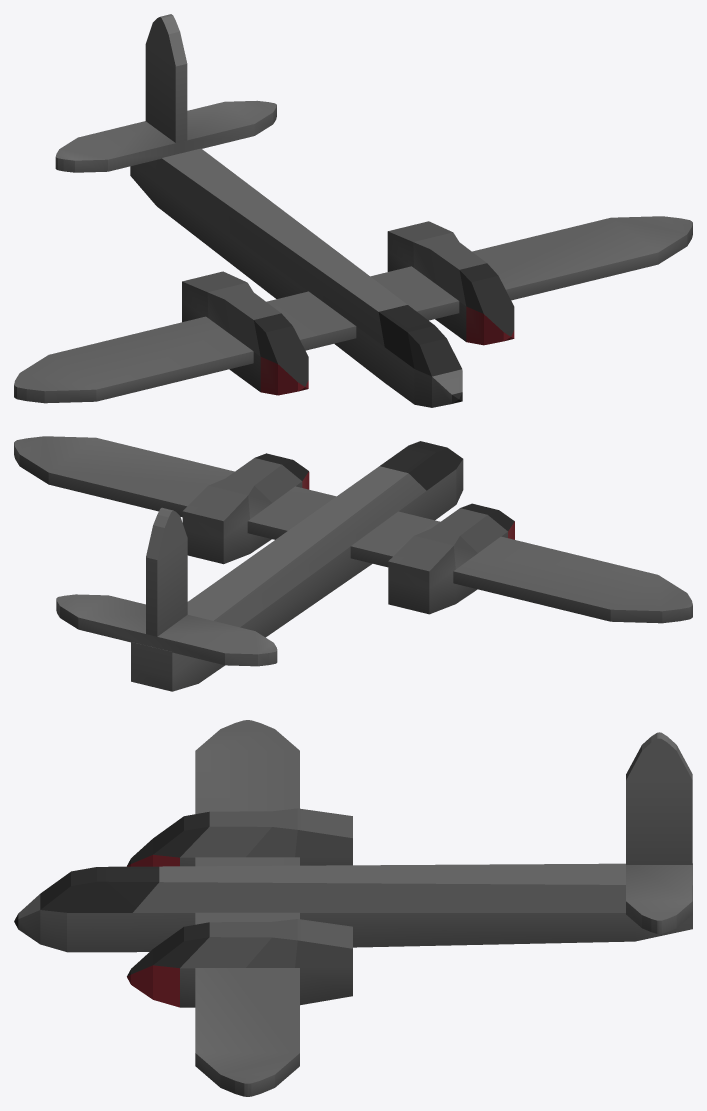
Rendered from ExplodeEnemy.fbx.
The picture shows the model from 3 angles, top to bottom: view 1: azimuth 30°, elevation 25°; view 2: azimuth 150°, elevation 25°; view 3: azimuth 270°, elevation 25°; orthographic projection. The views are drawn at different scales.
Parts seen in each view (by area): view 1: AviaoBellYFMAiracuda; view 2: AviaoBellYFMAiracuda; view 3: AviaoBellYFMAiracuda.
Boxes of the visible parts, left/top/right/bottom form: AviaoBellYFMAiracuda: left=14, top=14, right=692, bottom=407; AviaoBellYFMAiracuda: left=14, top=436, right=692, bottom=691; AviaoBellYFMAiracuda: left=14, top=720, right=692, bottom=1096.
Size of the model in its own units: 1045 by 276 by 825.
